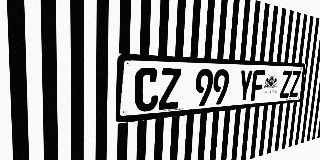9: (194, 69, 214, 107), (212, 69, 230, 105)
C: (134, 68, 159, 112)
F: (251, 70, 265, 101)
Y: (237, 70, 253, 102)
Z: (158, 68, 181, 110), (279, 70, 292, 98), (289, 71, 301, 97)
